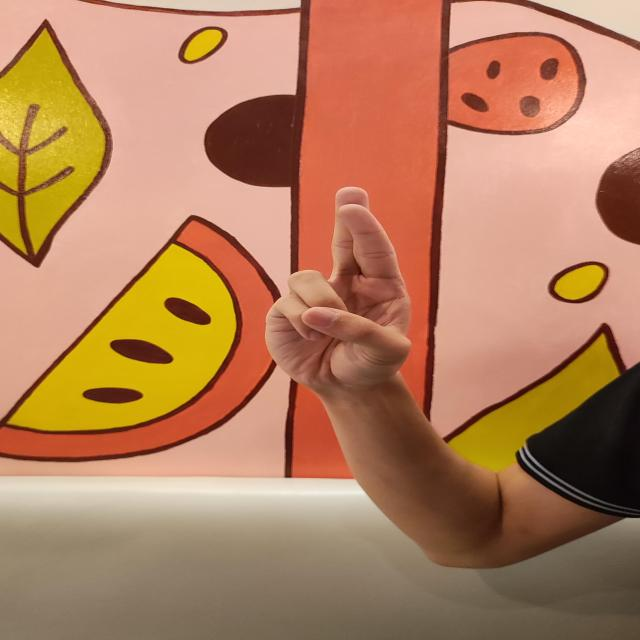R: (263, 185, 415, 391)
